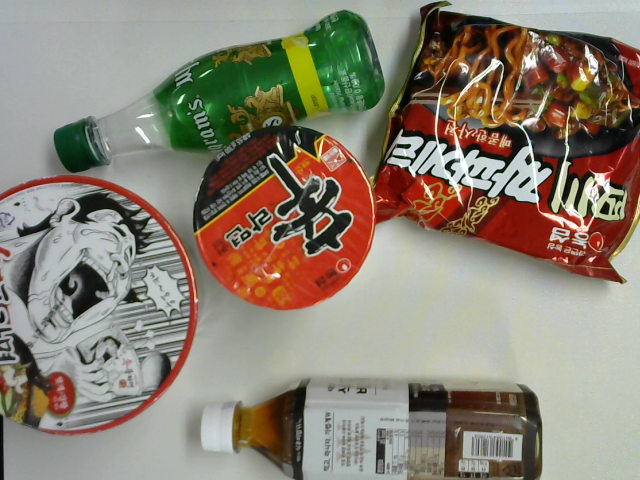Jeju_Tangerine_1.5L: (1, 173, 198, 437)
Post-meal_recipe_W_tea_500ml: (198, 378, 543, 480)
Seagram_Lemon_Carbonated_Water: (52, 10, 387, 176)
Sichuan_Chapaghetti: (374, 3, 640, 287)
Sinramen_small: (190, 123, 376, 312)
